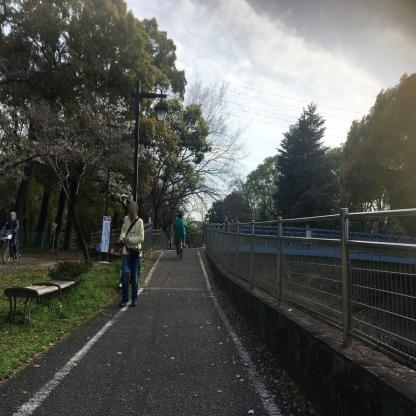Someiyoshino: (0, 84, 162, 219)
